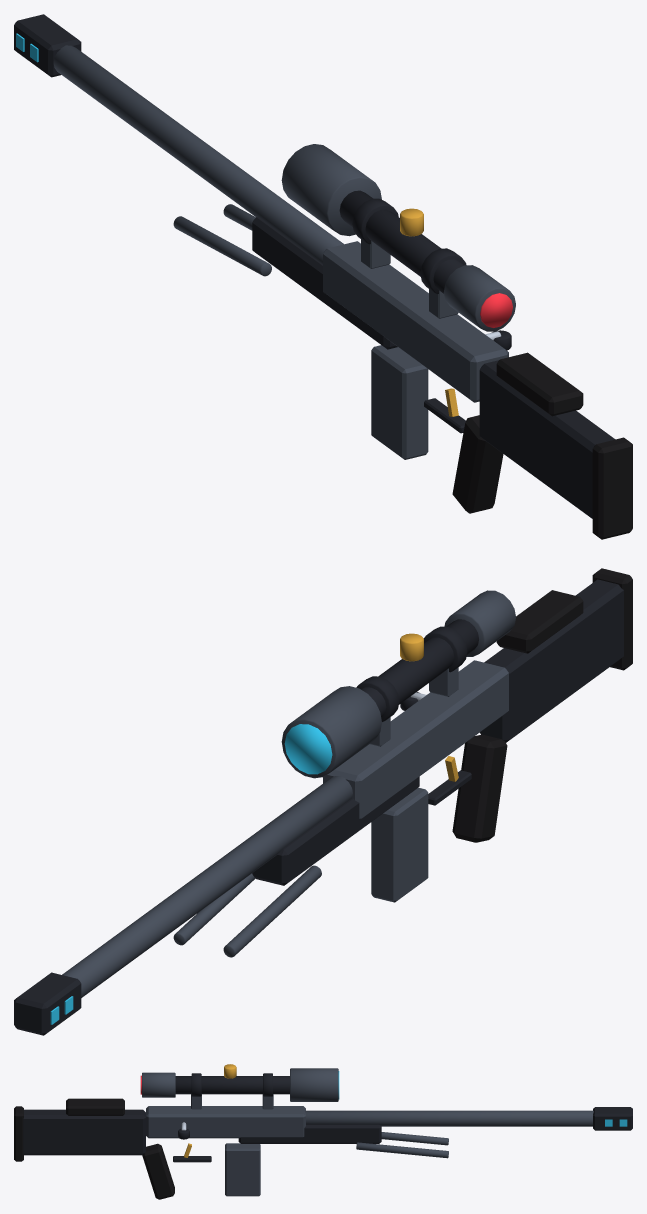
File: gun_sniper.obj
3 views of the same model, one above another, from view 1: azimuth 30°, elevation 25°; view 2: azimuth 150°, elevation 25°; view 3: azimuth 270°, elevation 25° (orthographic). The views are drawn at different scales.
Parts seen in each view (by area): view 1: Receiver, Barrel, Stock, Mag, ScopeObj, Butt, Chassis, ScopeTube, Grip, Cheek, ScopeOcu, MuzzleBrake (+4 smaller); view 2: Receiver, Barrel, Stock, Mag, Grip, ScopeObj, Chassis, ScopeTube, Cheek, MuzzleBrake, ScopeOcu, LensF (+5 smaller); view 3: Stock, Receiver, Barrel, Chassis, Mag, ScopeTube, ScopeObj, Grip, Cheek, ScopeOcu, MuzzleBrake, BipodR (+5 smaller).
Part boxes in pixels (bbox=[...]): Receiver: bbox=[323, 241, 508, 402]; Barrel: bbox=[53, 45, 343, 263]; Stock: bbox=[479, 360, 615, 518]; Mag: bbox=[371, 345, 428, 459]; ScopeObj: bbox=[281, 144, 381, 236]; Butt: bbox=[592, 437, 632, 539]; Chassis: bbox=[252, 217, 397, 349]; ScopeTube: bbox=[339, 190, 464, 293]; Grip: bbox=[452, 415, 503, 513]; Cheek: bbox=[496, 352, 583, 416]; ScopeOcu: bbox=[443, 265, 515, 331]; MuzzleBrake: bbox=[14, 14, 81, 77]; Receiver: bbox=[323, 660, 508, 819]; Barrel: bbox=[62, 776, 352, 997]; Stock: bbox=[480, 579, 623, 742]; Mag: bbox=[371, 787, 428, 902]; Grip: bbox=[452, 734, 507, 842]; ScopeObj: bbox=[281, 686, 381, 778]; Chassis: bbox=[252, 776, 419, 885]; ScopeTube: bbox=[361, 619, 478, 717]; Cheek: bbox=[496, 590, 583, 653]; MuzzleBrake: bbox=[14, 972, 81, 1035]; ScopeOcu: bbox=[444, 590, 515, 656]; LensF: bbox=[284, 724, 332, 774]; Stock: bbox=[23, 1109, 145, 1155]; Receiver: bbox=[146, 1106, 305, 1138]; Barrel: bbox=[305, 1110, 593, 1126]; Chassis: bbox=[238, 1124, 381, 1143]; Mag: bbox=[225, 1143, 260, 1196]; ScopeTube: bbox=[175, 1076, 289, 1094]; ScopeObj: bbox=[290, 1068, 338, 1101]; Grip: bbox=[142, 1143, 174, 1199]; Cheek: bbox=[66, 1098, 124, 1115]; ScopeOcu: bbox=[142, 1072, 175, 1097]; MuzzleBrake: bbox=[593, 1107, 632, 1130]; BipodR: bbox=[356, 1142, 448, 1158].
Size of the model in its own units: 0.1225 by 0.3432 by 1.47.
